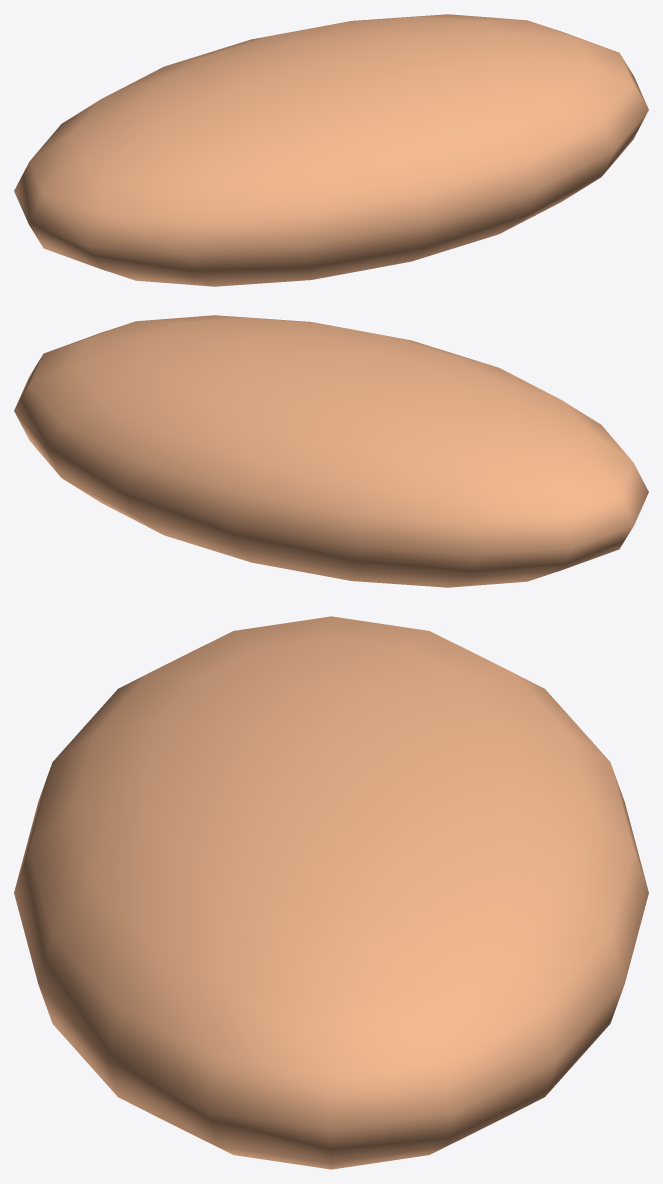
The model's file is chicken-raw.glb.
The picture shows the model from 3 angles, top to bottom: view 1: azimuth 30°, elevation 25°; view 2: azimuth 150°, elevation 25°; view 3: azimuth 270°, elevation 25°; orthographic projection. The views are drawn at different scales.
Visible parts, largest first — view 1: chicken-raw; view 2: chicken-raw; view 3: chicken-raw.
Part boxes in pixels (x1,y1,x2,y2): chicken-raw: (14, 14, 648, 286); chicken-raw: (14, 315, 648, 587); chicken-raw: (14, 616, 648, 1169).
Bounding box in the file's own units: 0.46 × 0.13 × 0.26.
